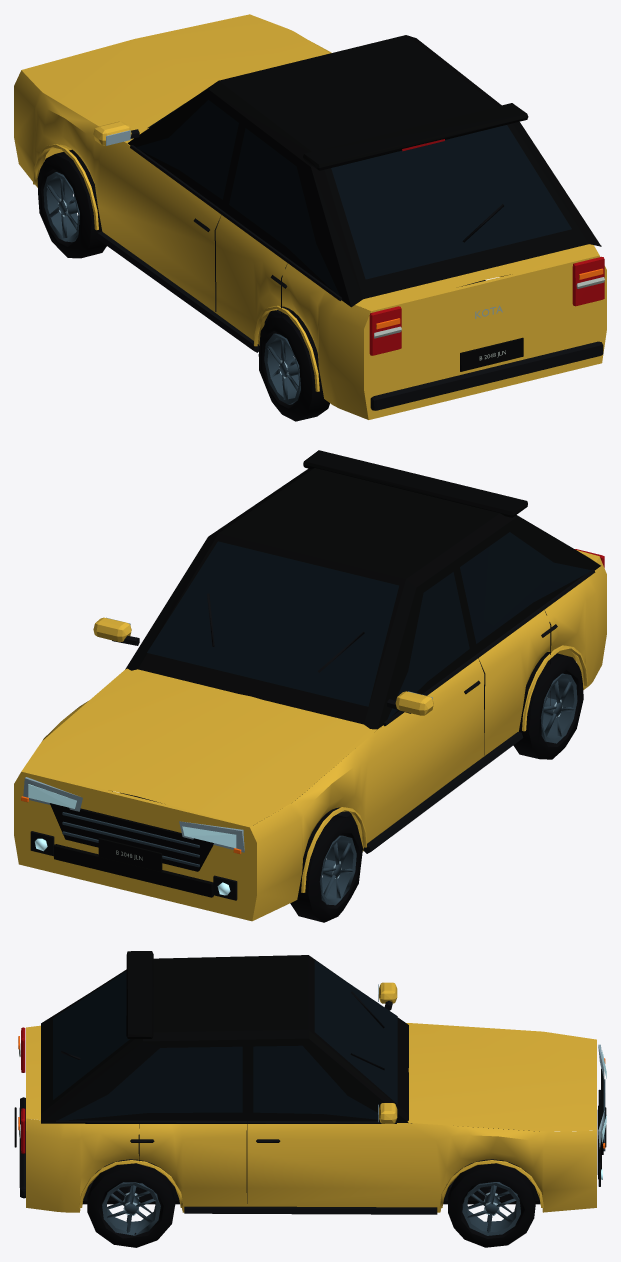
Rendered from Body_LOD1.fbx.
3 renders of one model, top to bottom at view 1: azimuth 30°, elevation 25°; view 2: azimuth 150°, elevation 25°; view 3: azimuth 270°, elevation 25°, orthographic. The views are drawn at different scales.
Parts seen in each view (by area): view 1: Body_Mesh, Wheel_RL_Mesh, Wheel_FL_Mesh, TailLights_Mesh; view 2: Body_Mesh, Wheel_FL_Mesh, Wheel_RL_Mesh, Headlights_Mesh; view 3: Body_Mesh, Wheel_FR_Mesh, Wheel_RR_Mesh, TailLights_Mesh.
Part boxes in pixels (x1,y1,x2,y2): Body_Mesh: [14, 14, 606, 419]; Wheel_RL_Mesh: [258, 311, 329, 421]; Wheel_FL_Mesh: [37, 149, 106, 258]; TailLights_Mesh: [369, 139, 604, 355]; Body_Mesh: [14, 450, 606, 921]; Wheel_FL_Mesh: [290, 813, 362, 922]; Wheel_RL_Mesh: [513, 652, 583, 759]; Headlights_Mesh: [23, 777, 244, 895]; Body_Mesh: [14, 951, 606, 1214]; Wheel_FR_Mesh: [448, 1163, 535, 1247]; Wheel_RR_Mesh: [87, 1160, 175, 1247]; TailLights_Mesh: [19, 1027, 25, 1153].
Size of the model in its own units: 211 by 149 by 396.
